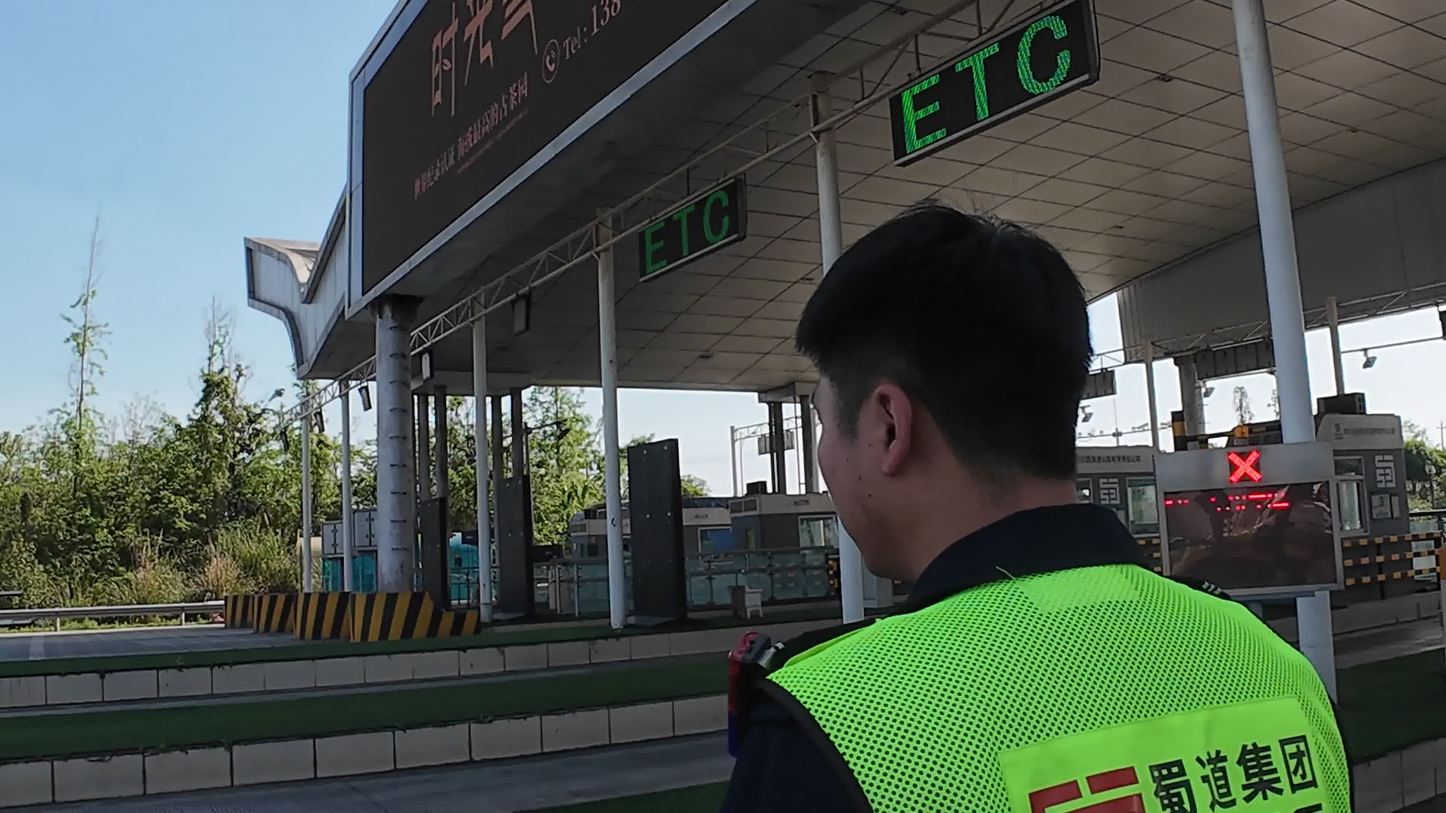led_screen: (355, 0, 653, 307), (888, 0, 1095, 165), (1161, 437, 1330, 579), (627, 168, 746, 281), (1188, 351, 1279, 370), (505, 302, 531, 328), (311, 404, 326, 431), (421, 349, 431, 379), (358, 385, 373, 403), (279, 431, 292, 448)
roadside_plant: (0, 412, 279, 606)
toll_booth: (1337, 401, 1409, 605), (732, 494, 847, 581), (563, 509, 638, 573), (683, 495, 743, 569)
